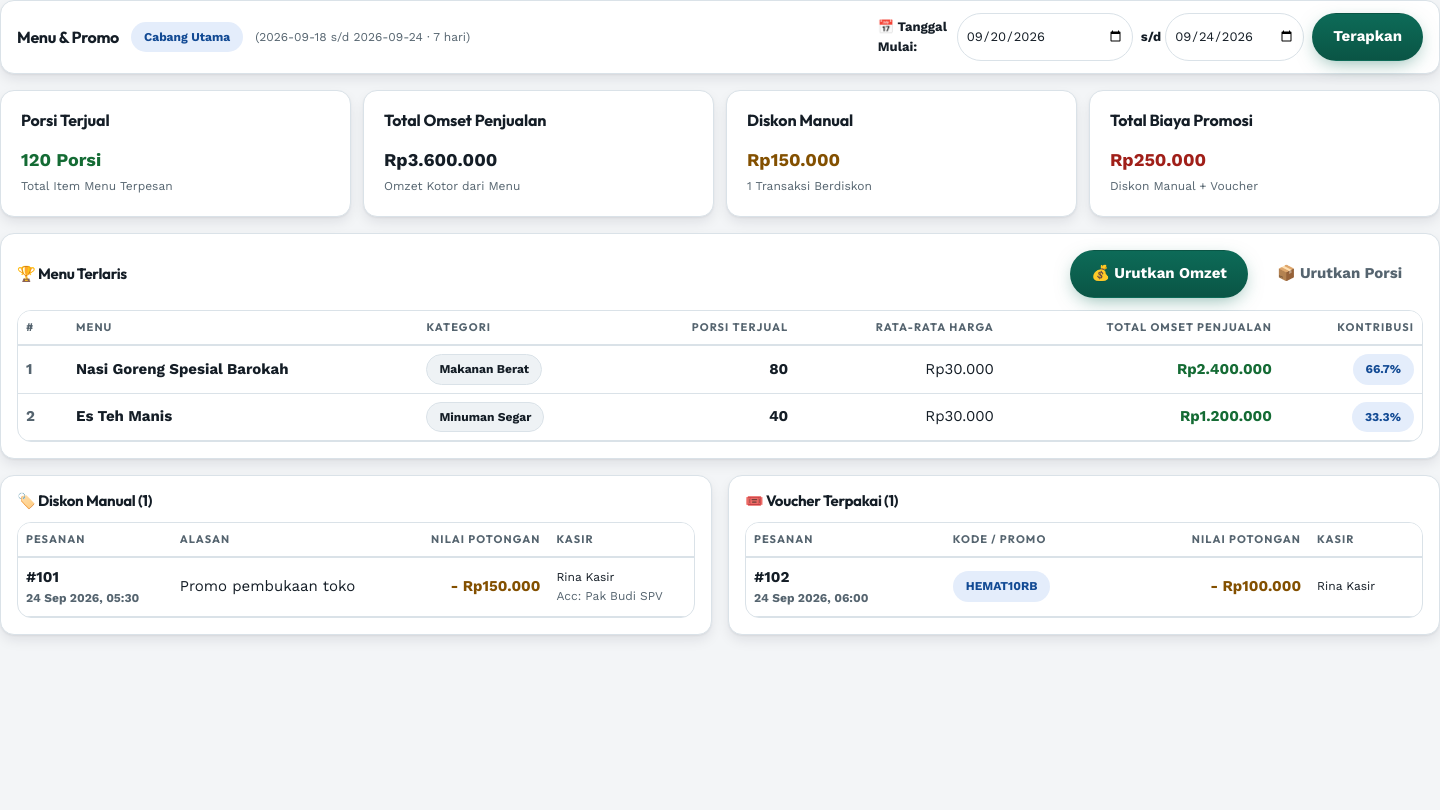
Test case: LaporanMenu › menolak rentang tanggal jika tanggal akhir lebih awal dari tanggal mulai
This screenshot has width=1440, height=810.
Type "2026-09-25" into the date field labelled "📅 Tanggal Mulai:". click: {"x": 1045, "y": 37}
box: [957,13,1133,61]
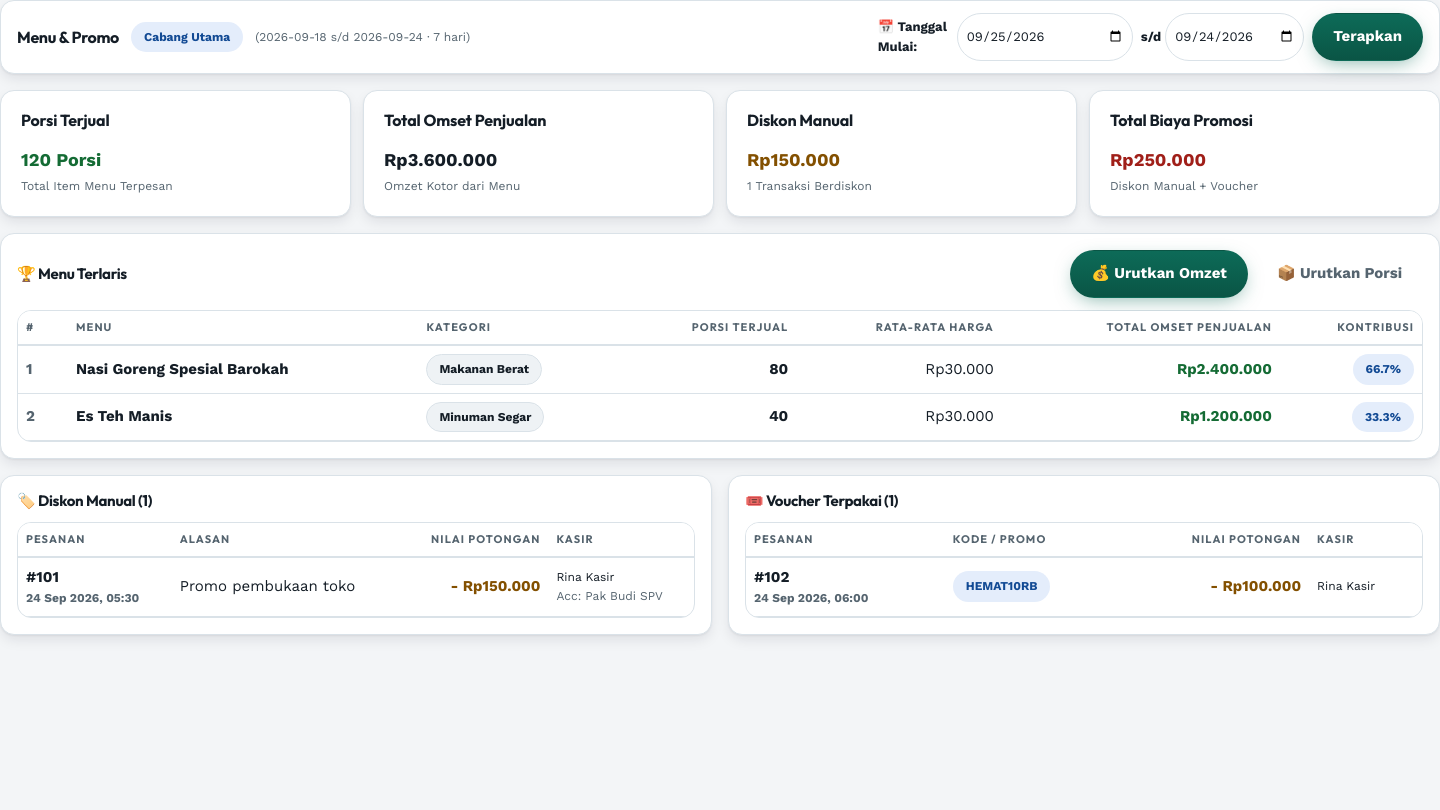
Type "2026-09-20" into the date field labelled "s/d". click: {"x": 1235, "y": 37}
box: [1165,13,1304,61]
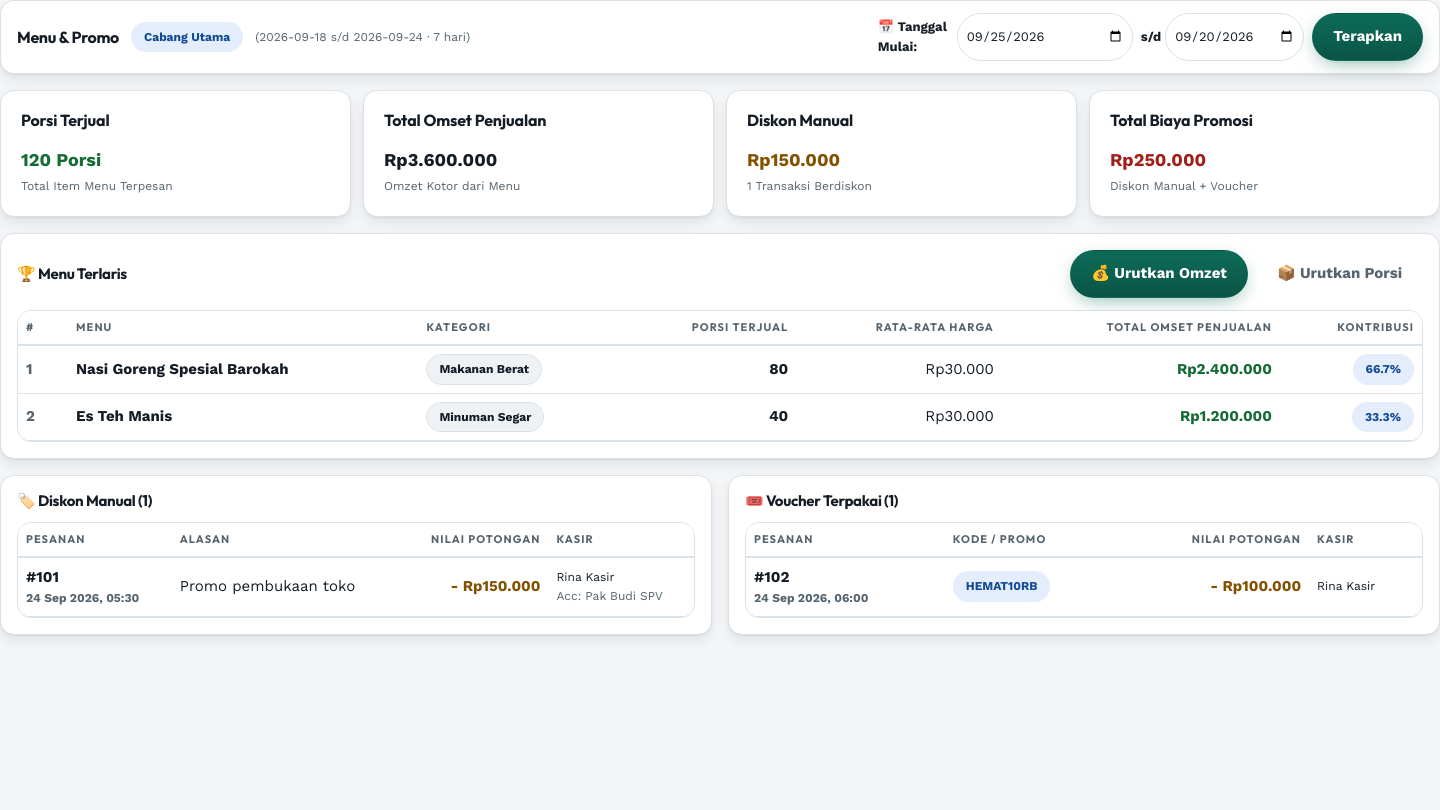
Click the button "Terapkan". click: {"x": 1368, "y": 37}
box: [1312,13,1423,61]
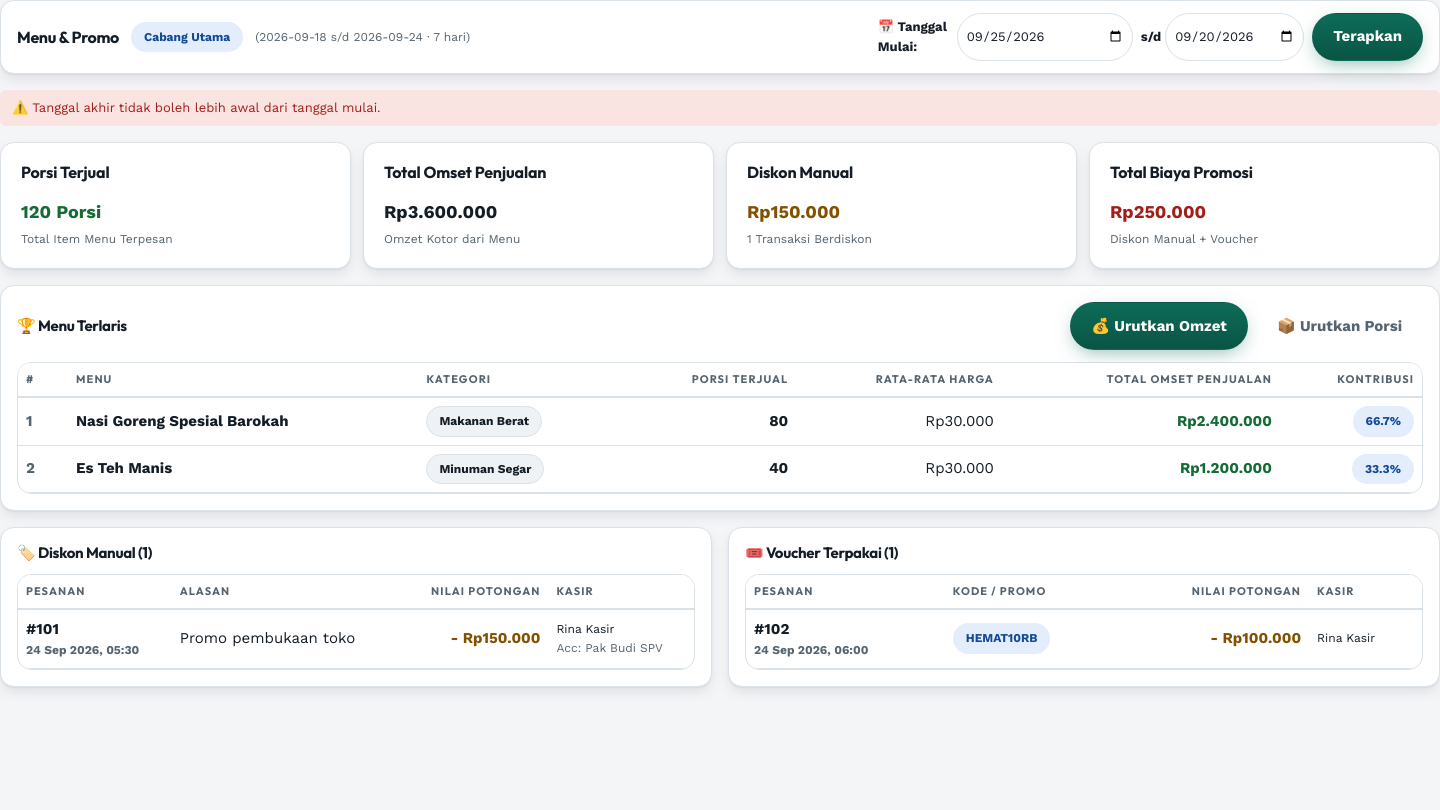
Check: the text "⚠️ Tanggal akhir tidak boleh lebih awal dari tanggal mulai." is shown, box [0,90,1439,126]
